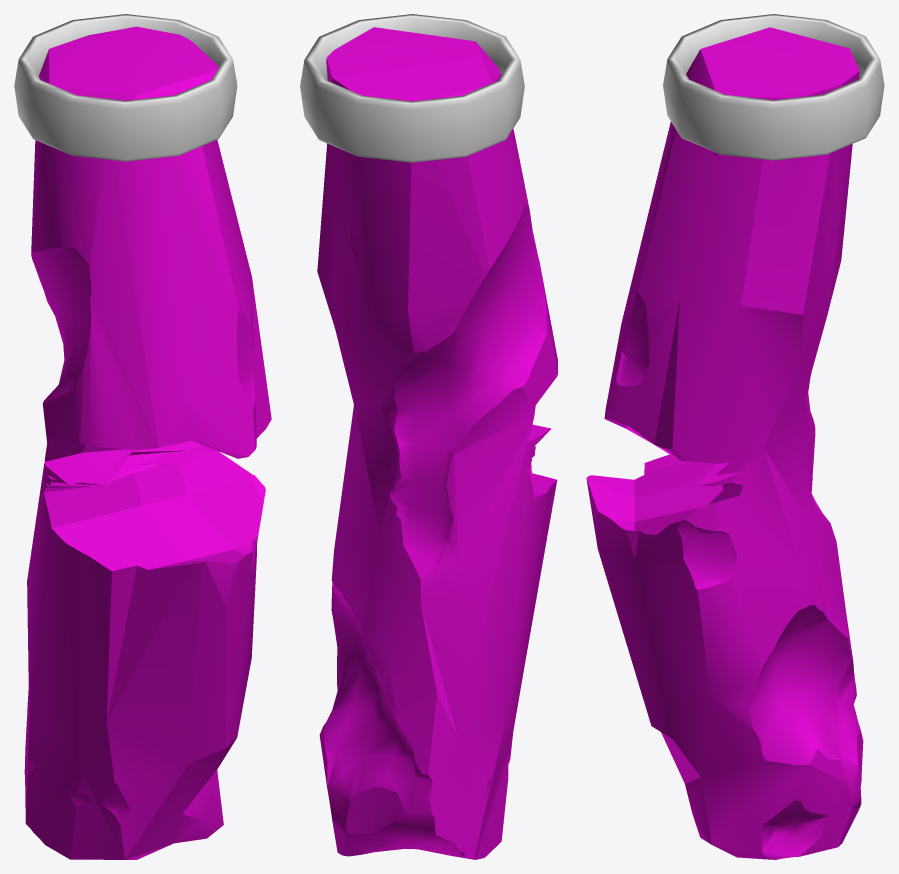
The model's file is Cracked Stick.fbx.
The picture shows the model from 3 angles, left to right: view 1: azimuth 30°, elevation 25°; view 2: azimuth 150°, elevation 25°; view 3: azimuth 270°, elevation 25°; orthographic projection.
Parts seen in each view (by area): view 1: Cylinder.015_dmg, Torus; view 2: Cylinder.015_dmg, Torus; view 3: Cylinder.015_dmg, Torus.
Part boxes in pixels (x1,y1,x2,y2): Cylinder.015_dmg: (24,26,271,859); Torus: (14,14,237,161); Cylinder.015_dmg: (317,27,557,859); Torus: (300,14,524,162); Cylinder.015_dmg: (586,27,863,859); Torus: (663,14,884,160).
Size of the model in its own units: 23.63 by 89.61 by 31.3.
